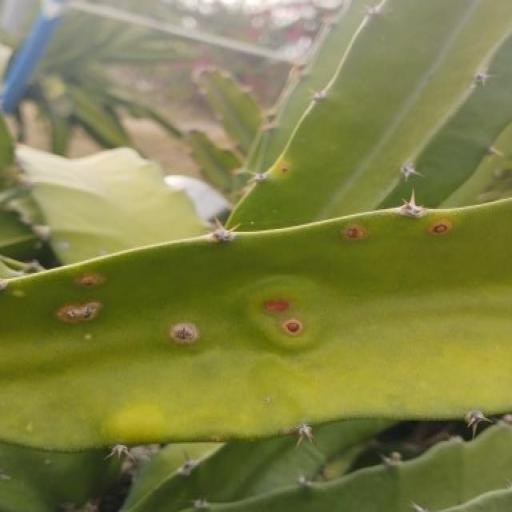stemcanker: (75, 269, 105, 292), (83, 329, 92, 345)
